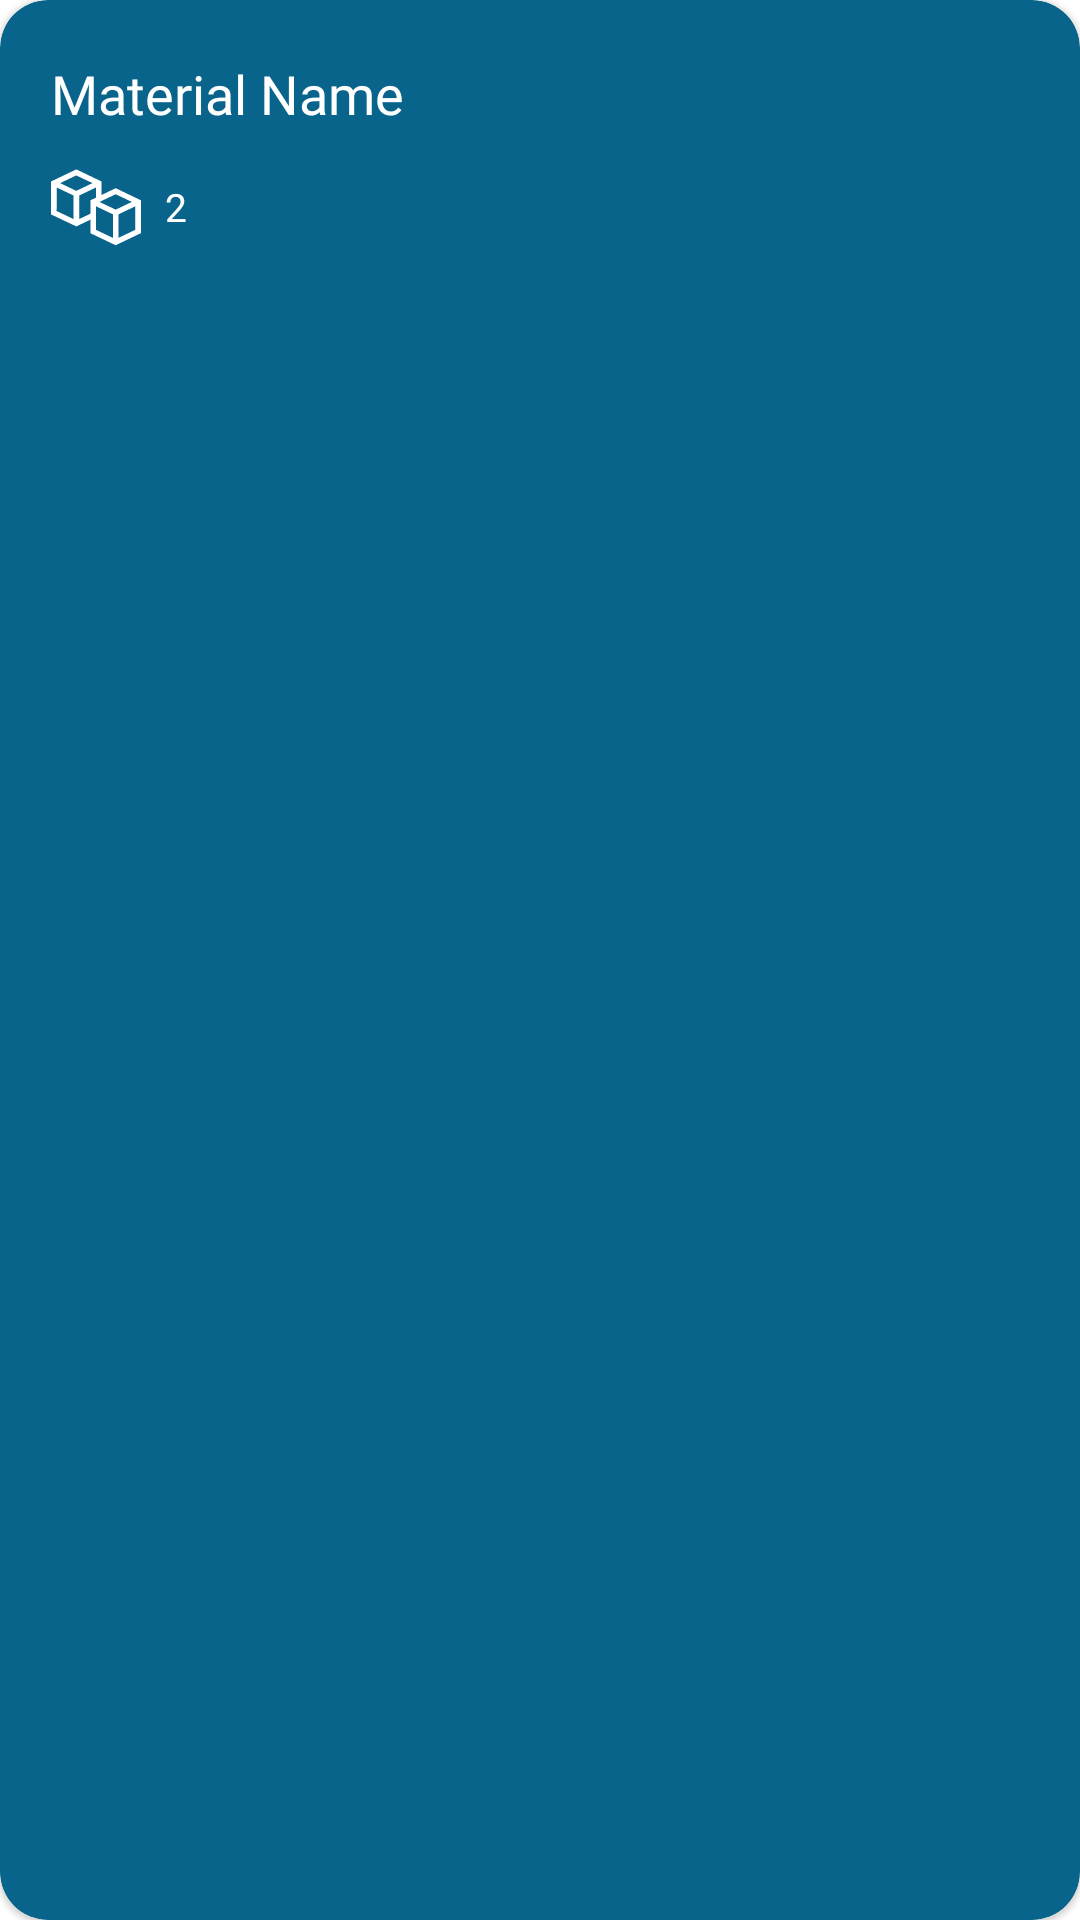

Icons on this 1080 × 1920 Android screen, each with the point to tap as (x=x, y=y):
quantity: (x=96, y=207)
